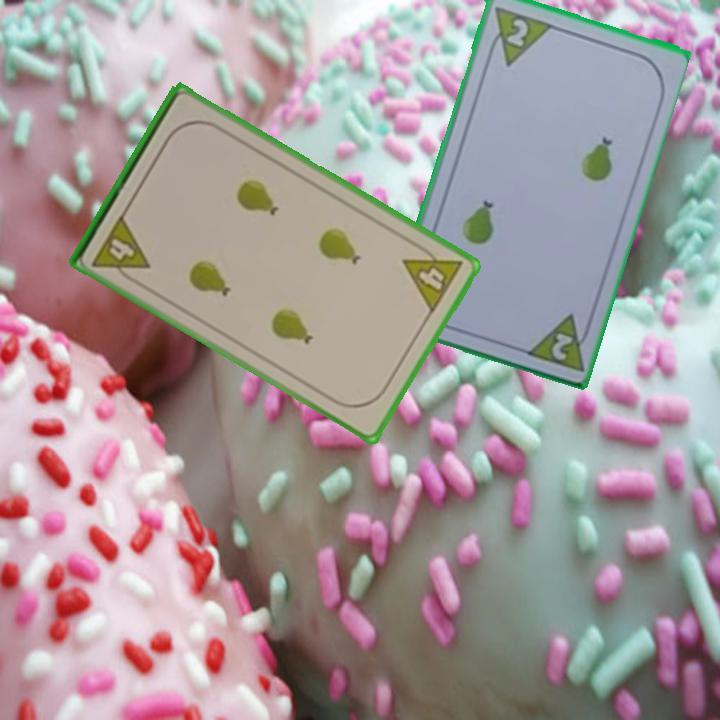2p: (520, 308, 596, 374), (503, 14, 531, 49)
4p: (399, 238, 466, 317), (88, 210, 153, 287)
